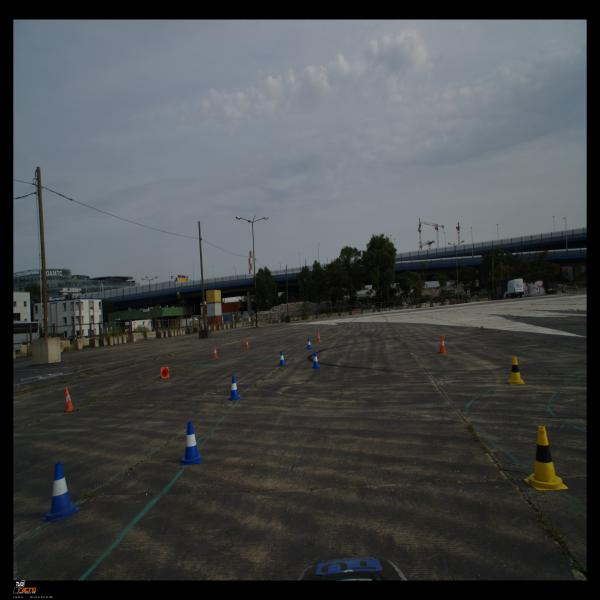blue_cone: (41, 462, 81, 521), (180, 422, 202, 465), (228, 376, 242, 401), (310, 352, 321, 368), (278, 351, 287, 366), (306, 338, 312, 350)
orange_cone: (64, 387, 76, 412), (438, 335, 447, 353), (160, 366, 170, 378), (212, 346, 218, 358), (316, 332, 321, 342), (245, 338, 250, 348)
yellow_cone: (524, 426, 568, 490), (507, 356, 525, 385)
